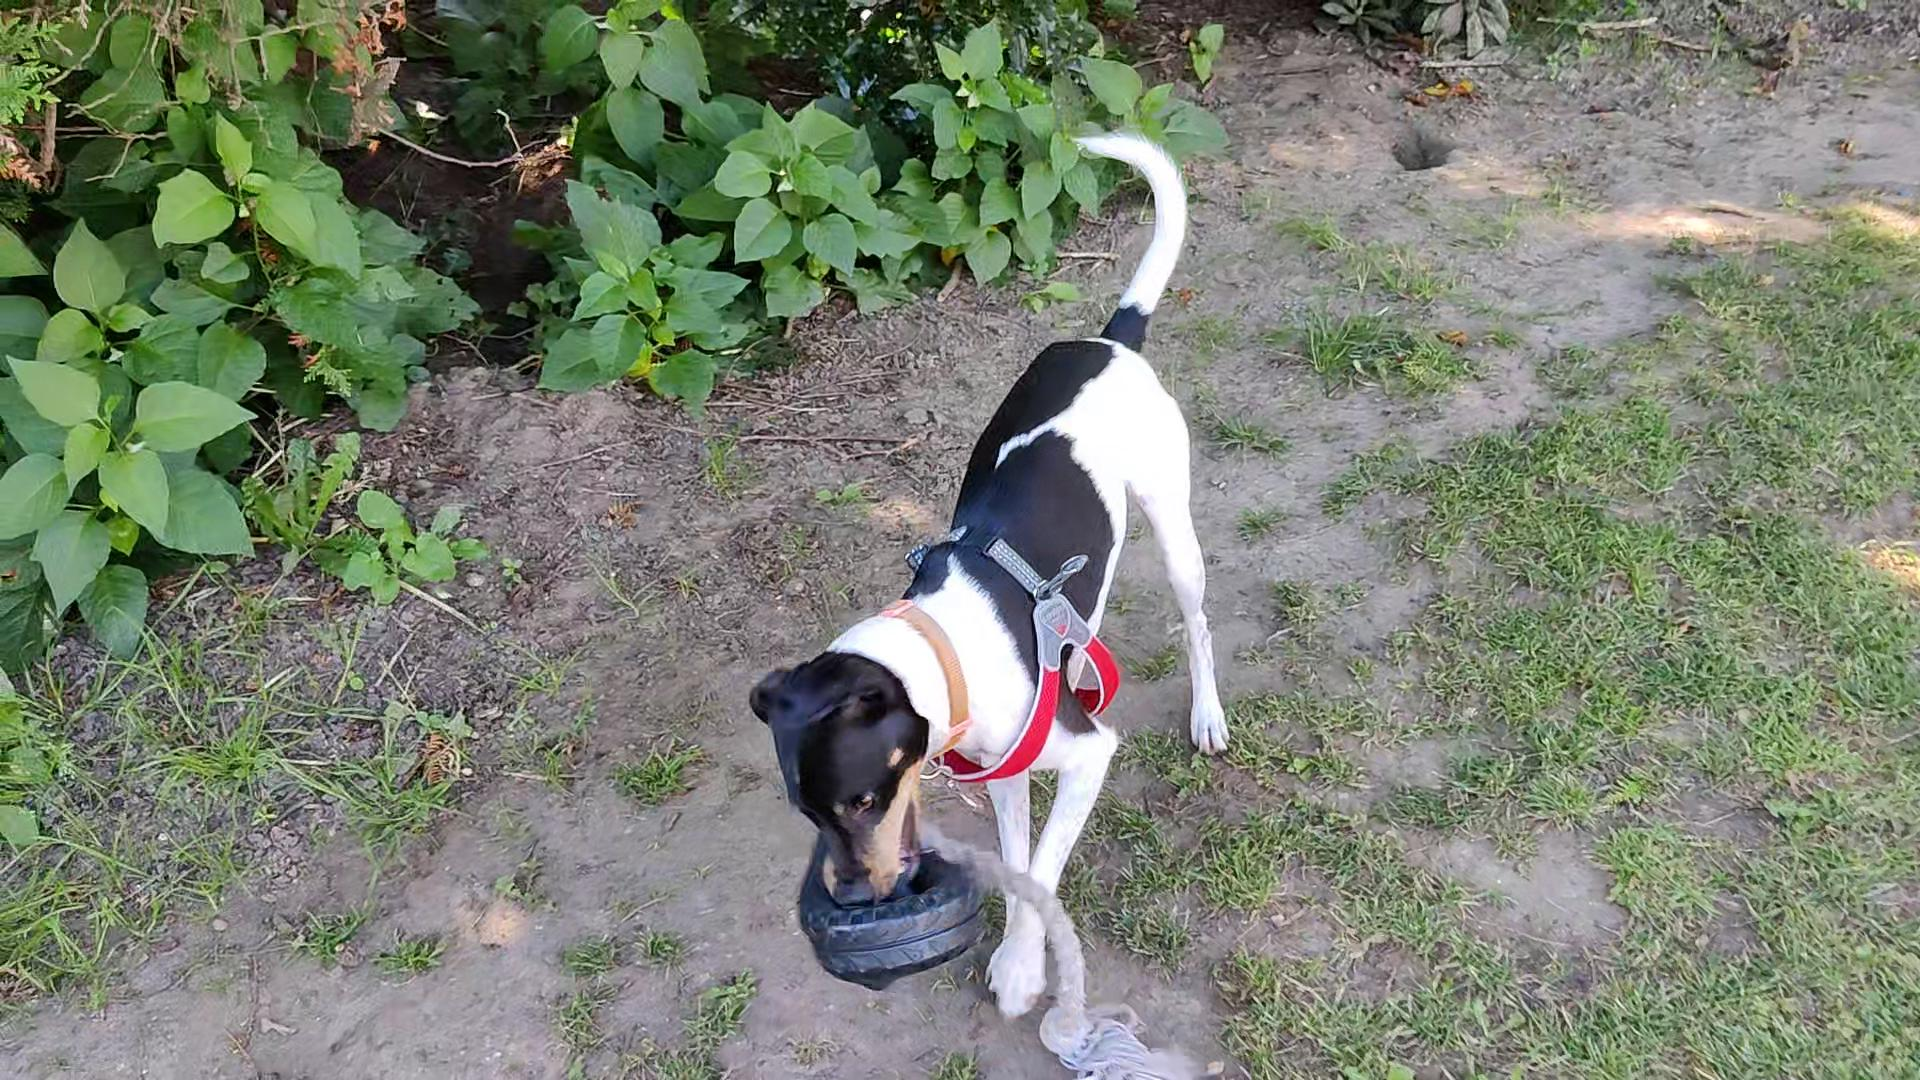Dog: (740, 123, 1246, 1040)
